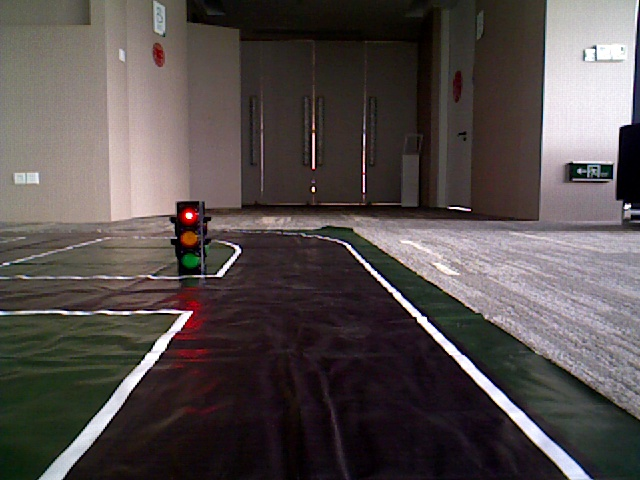red: (177, 201, 203, 270)
